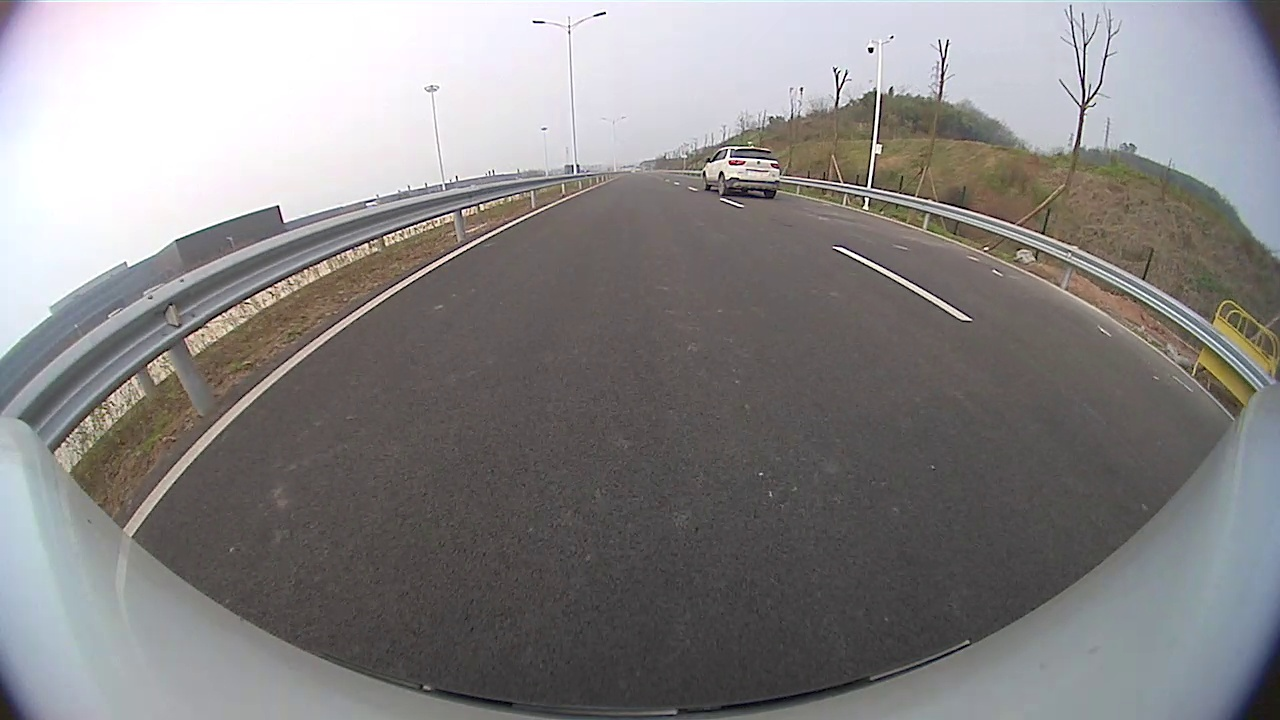car: (701, 145, 781, 199)
front: (701, 173, 710, 192)
rear: (717, 173, 730, 197)
